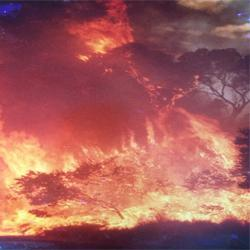fire: (153, 190, 241, 220), (0, 138, 49, 171), (77, 24, 129, 52), (8, 211, 58, 238)
